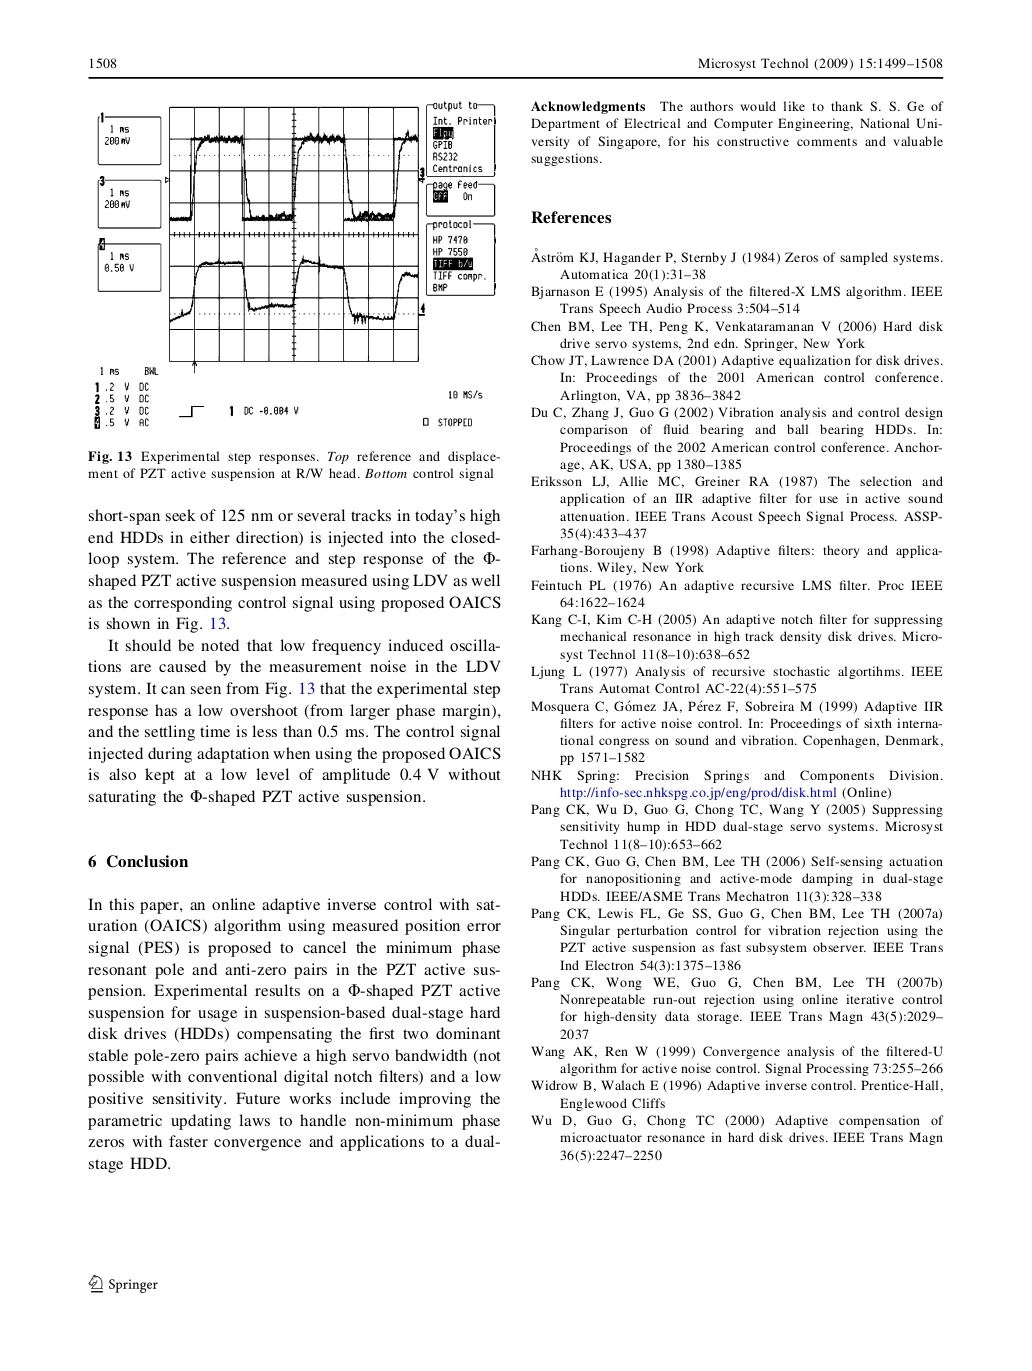figure: (94, 101, 495, 428)
